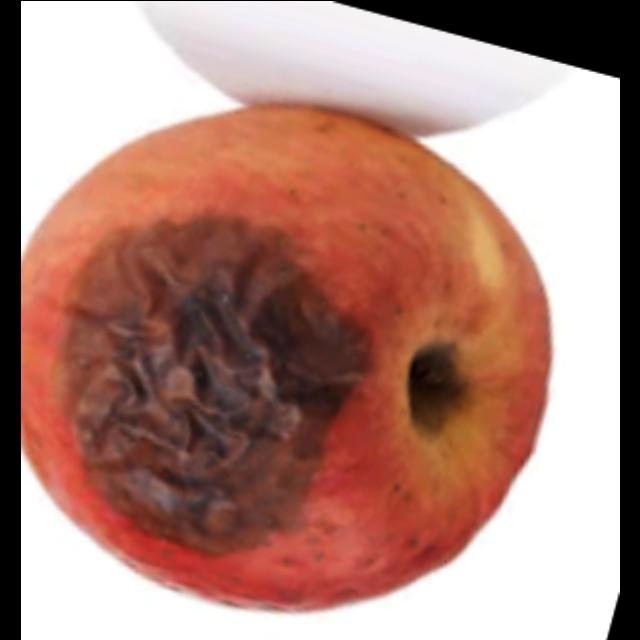Apel Tidak Segar: (20, 106, 558, 622)
